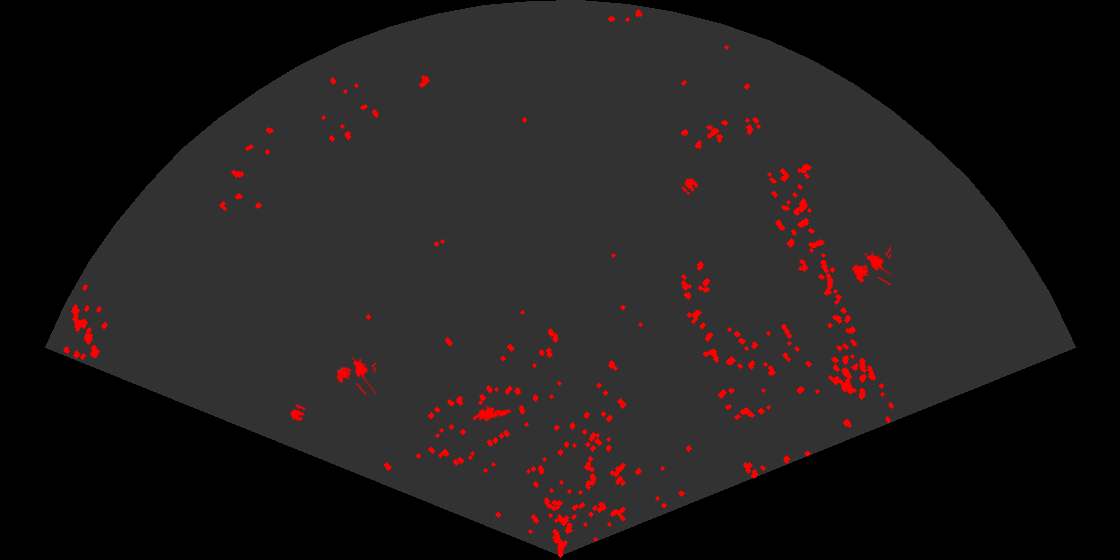ball: (679, 176, 700, 197), (289, 403, 307, 423)
cage: (850, 244, 891, 287), (335, 356, 376, 395)
frogman: (473, 404, 513, 423)
